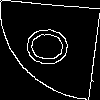O: (25, 25, 79, 69)
